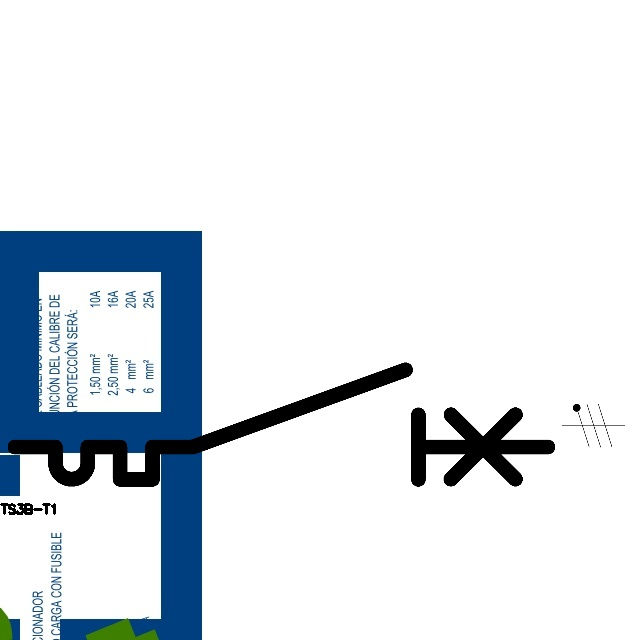interruptor_termomagnetico: (1, 356, 562, 493)
